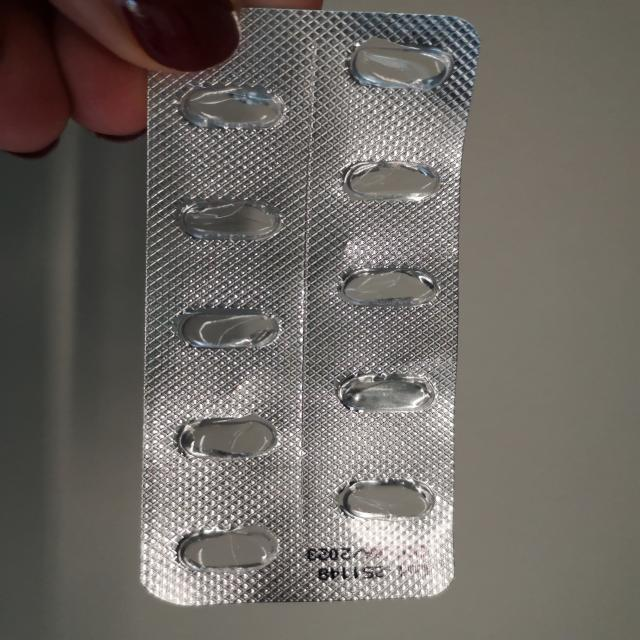Empty: (343, 33, 454, 90), (171, 305, 289, 354), (176, 84, 290, 132), (171, 195, 283, 243), (170, 526, 284, 573), (172, 416, 283, 462), (336, 157, 444, 204), (330, 478, 441, 522), (335, 372, 441, 418), (328, 266, 444, 308)
